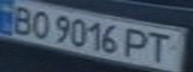0: (66, 16, 87, 48)
1: (84, 20, 106, 52)
6: (100, 22, 124, 56)
9: (48, 12, 72, 45)
B: (3, 2, 39, 35)
O: (24, 8, 54, 39)
P: (124, 26, 154, 61)
T: (145, 29, 184, 64)
